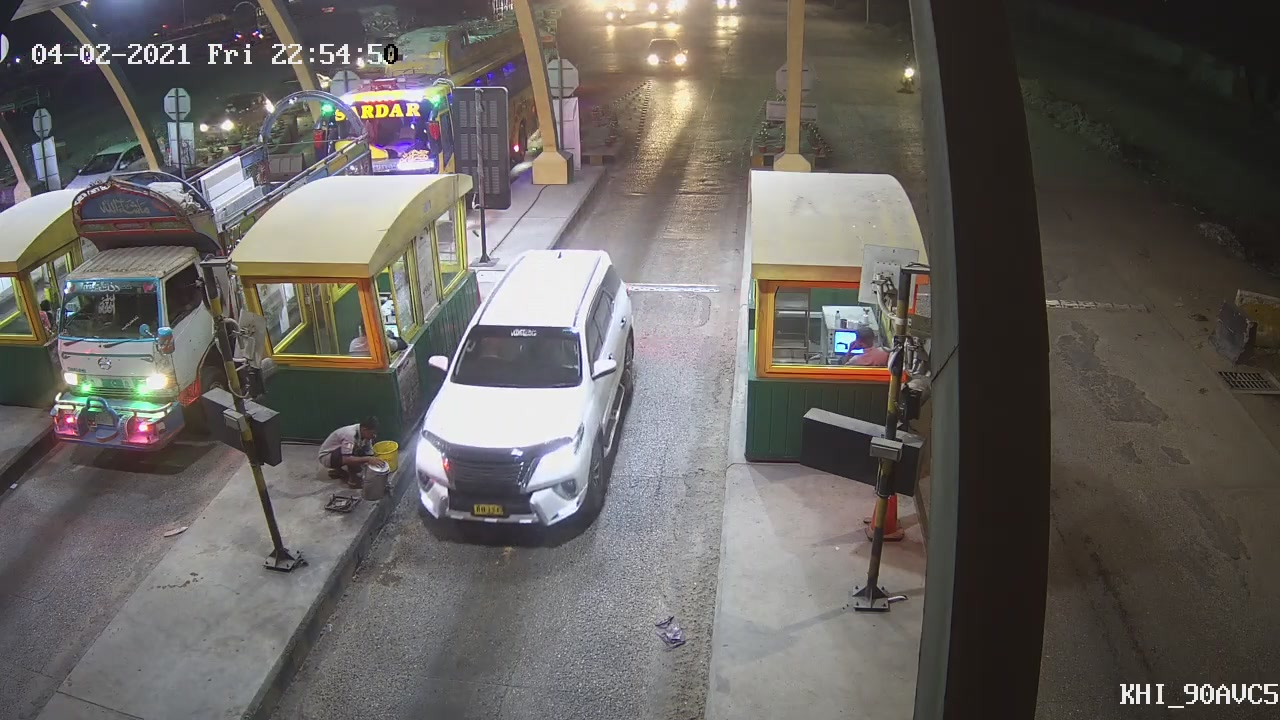F1: (412, 242, 634, 534)
